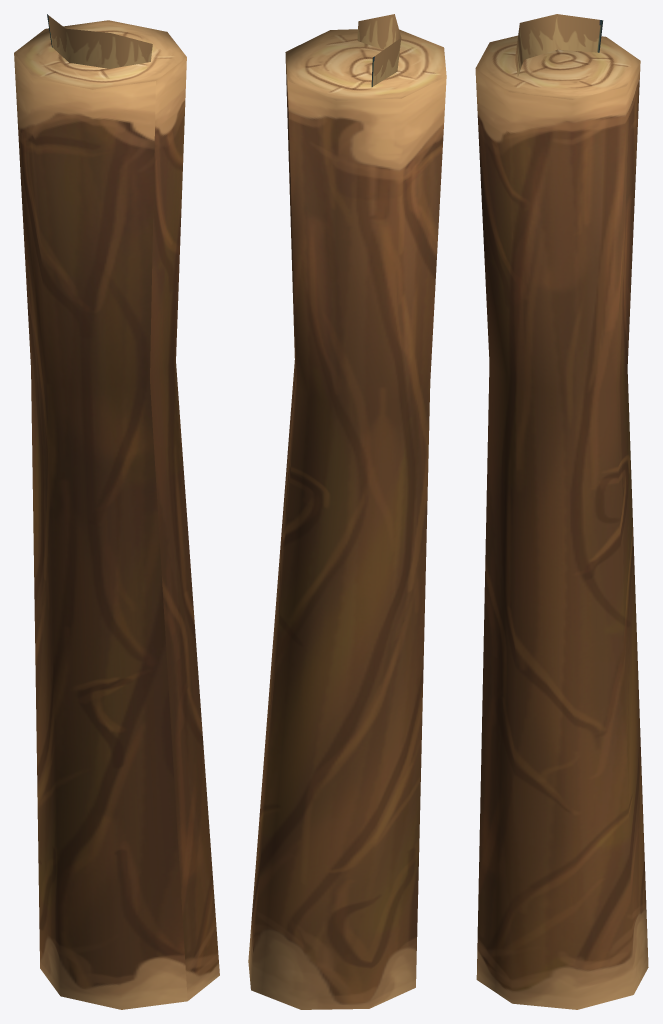
Rendered from wooden_pillar.fbx.
The picture shows the model from 3 angles, left to right: view 1: azimuth 30°, elevation 25°; view 2: azimuth 150°, elevation 25°; view 3: azimuth 270°, elevation 25°; orthographic projection. The views are drawn at different scales.
Parts seen in each view (by area): view 1: wooden_pillar; view 2: wooden_pillar; view 3: wooden_pillar.
Part boxes in pixels (x1,y1,x2,y2): wooden_pillar: (14,14,219,1009); wooden_pillar: (248,14,446,1009); wooden_pillar: (475,14,648,1009).
Bounding box in the file's own units: 1.2 × 6.04 × 1.02.
